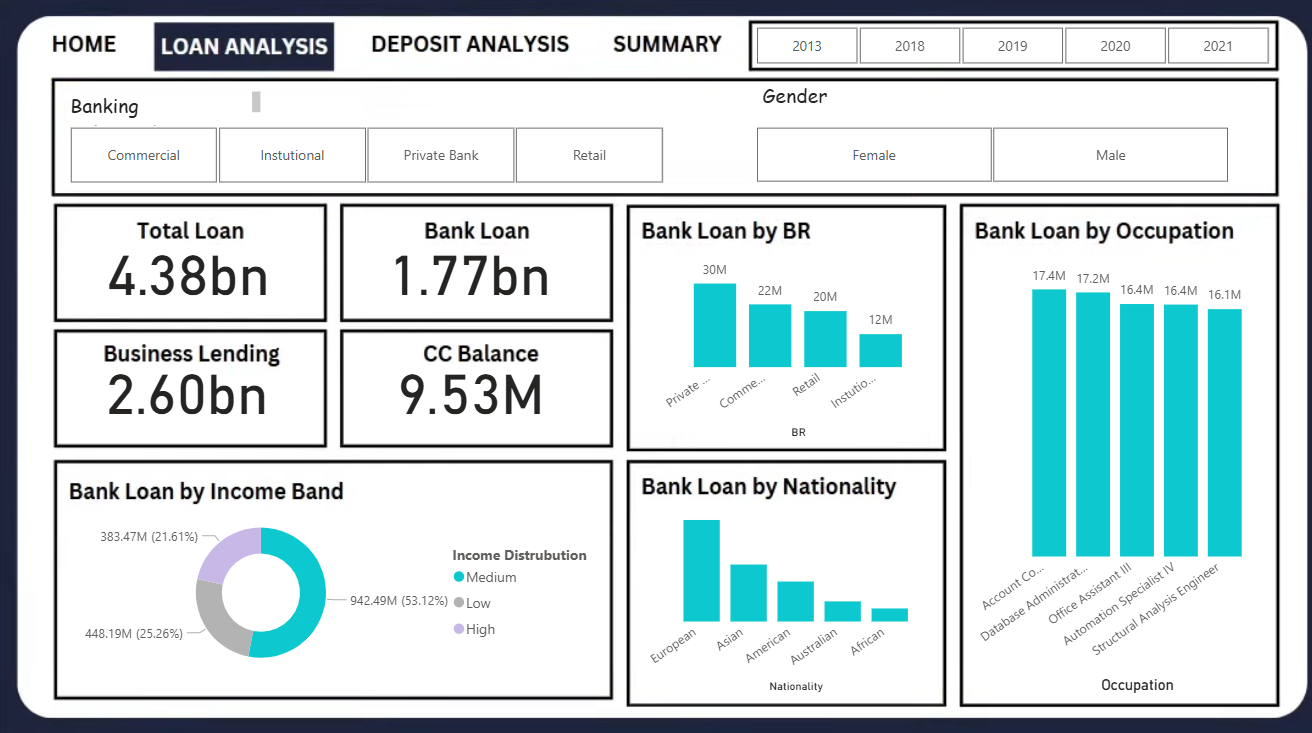

This screenshot's page, from the dashboard's own definition file:
{"tool":"powerbi","page":{"name":"Loan Analysis","canvas":[1280,720],"ordinal":1},"visuals":[{"type":"slicer","fields":{"Values":["banking.Year of joining"]},"box":[708.2,25.3,544.1,48.3],"z":0},{"type":"actionButton","box":[44.6,25.3,85.7,48.3],"z":1000},{"type":"actionButton","box":[352.3,22.9,208.7,50.7],"z":2000},{"type":"actionButton","box":[576.7,22.9,141.2,50.7],"z":3000},{"type":"card","fields":{"Values":["banking.TotalLoan"]},"box":[88.1,246.1,195.4,59.1],"z":4000},{"type":"card","fields":{"Values":["Sum(banking.Bank_Loans)"]},"box":[359.5,246.1,195.4,59.1],"z":5000},{"type":"card","fields":{"Values":["Sum(banking.Business Lending)"]},"box":[87,360.5,195.1,59.7],"z":6000},{"type":"card","fields":{"Values":["Sum(banking.Credit_Card_Balance)"]},"box":[360.5,360.5,195.1,59.7],"z":7000},{"type":"donutChart","fields":{"Category":["banking.Income Distrubution"],"Y":["Sum(banking.Bank_Loans)"]},"box":[65.9,492.2,522,171.5],"z":8000},{"type":"columnChart","fields":{"Category":["banking.Occupation"],"Y":["Sum(banking.Bank_Loans)"]},"box":[943.4,246.1,282.2,433.8],"z":9000},{"type":"columnChart","fields":{"Category":["banking.Nationality"],"Y":["Sum(banking.Bank_Loans)"]},"box":[622.3,491.6,282.2,188.6],"z":10000},{"type":"columnChart","fields":{"Y":["Sum(banking.Bank_Loans)"],"Category":["banking.BR"]},"box":[621.6,245.6,281.3,188],"z":11000},{"type":"slicer","fields":{"Values":["banking.BR"]},"box":[45.3,122.1,621.6,67.2],"z":12000},{"type":"textbox","box":[65.9,89.2,193.5,42.5],"z":13000},{"type":"slicer","fields":{"Values":["banking.Gender"]},"box":[708.1,122.1,505,65.9],"z":14000},{"type":"textbox","box":[734.1,79.6,193.5,42.5],"z":15000}]}

Visuals, with their boxes in screenshot pixels (x1, y1, x2, y2), scaled from the page's 1280x720 canvas onto the 1312x733 screenshot:
slicer - banking.Year of joining: bbox(726, 26, 1284, 75)
actionButton: bbox(46, 26, 134, 75)
actionButton: bbox(361, 23, 575, 75)
actionButton: bbox(591, 23, 736, 75)
card - banking.TotalLoan: bbox(90, 251, 291, 311)
card - Sum(banking.Bank_Loans): bbox(368, 251, 569, 311)
card - Sum(banking.Business Lending): bbox(89, 367, 289, 428)
card - Sum(banking.Credit_Card_Balance): bbox(370, 367, 569, 428)
donutChart - banking.Income Distrubution x Sum(banking.Bank_Loans): bbox(68, 501, 603, 676)
columnChart - banking.Occupation x Sum(banking.Bank_Loans): bbox(967, 251, 1256, 692)
columnChart - banking.Nationality x Sum(banking.Bank_Loans): bbox(638, 500, 927, 692)
columnChart - Sum(banking.Bank_Loans) x banking.BR: bbox(637, 250, 925, 441)
slicer - banking.BR: bbox(46, 124, 684, 193)
textbox: bbox(68, 91, 266, 134)
slicer - banking.Gender: bbox(726, 124, 1243, 191)
textbox: bbox(752, 81, 951, 124)
